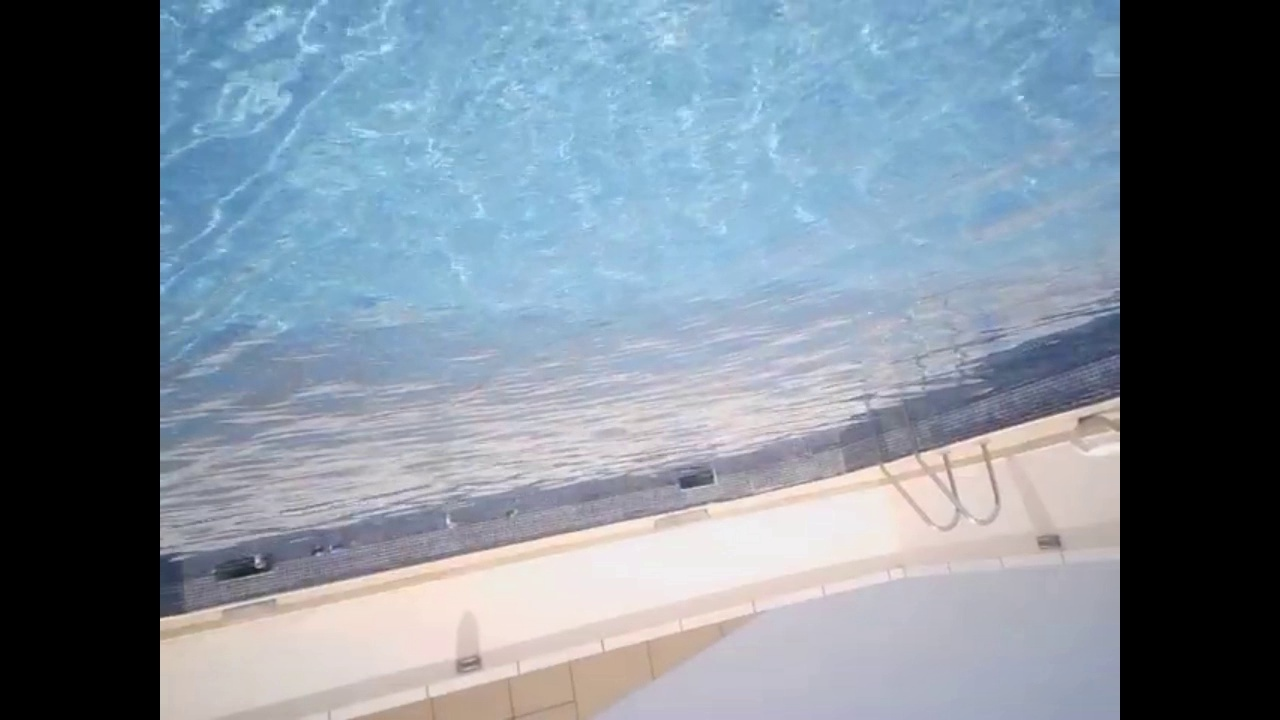debris: (303, 540, 326, 557), (328, 537, 355, 551), (438, 514, 458, 529), (502, 506, 518, 522), (250, 554, 266, 570)
